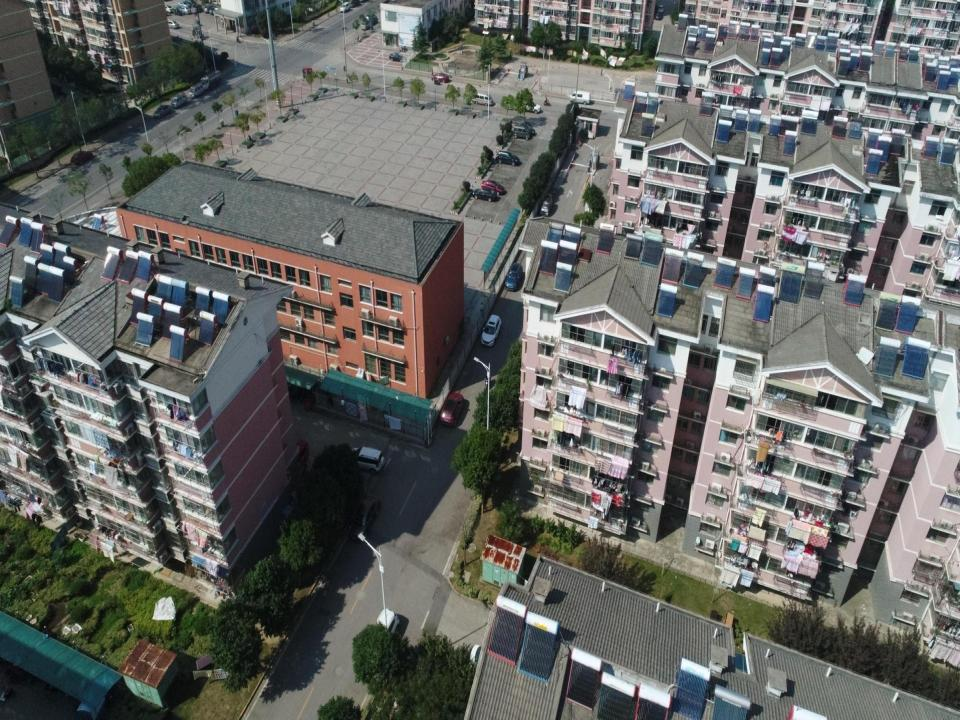car: (368, 607, 400, 655), (348, 494, 380, 542), (345, 446, 385, 476), (439, 391, 464, 428), (480, 313, 502, 348), (505, 262, 523, 291), (70, 149, 94, 166), (496, 150, 520, 166), (472, 187, 497, 202), (481, 180, 505, 195), (153, 104, 172, 119), (521, 101, 541, 113), (519, 122, 535, 136), (431, 72, 449, 84), (504, 97, 520, 110), (389, 52, 405, 63), (339, 1, 351, 14), (176, 6, 192, 15), (166, 19, 180, 29), (178, 1, 191, 10), (163, 4, 174, 13), (203, 4, 214, 13), (208, 6, 219, 15), (655, 11, 664, 20), (349, 0, 360, 7), (657, 4, 665, 13)
truck: (200, 68, 222, 92)
van: (539, 193, 553, 217), (569, 90, 591, 105), (170, 91, 188, 109), (471, 92, 494, 106), (512, 124, 532, 140), (188, 82, 205, 100), (364, 14, 378, 27), (361, 20, 371, 31)
